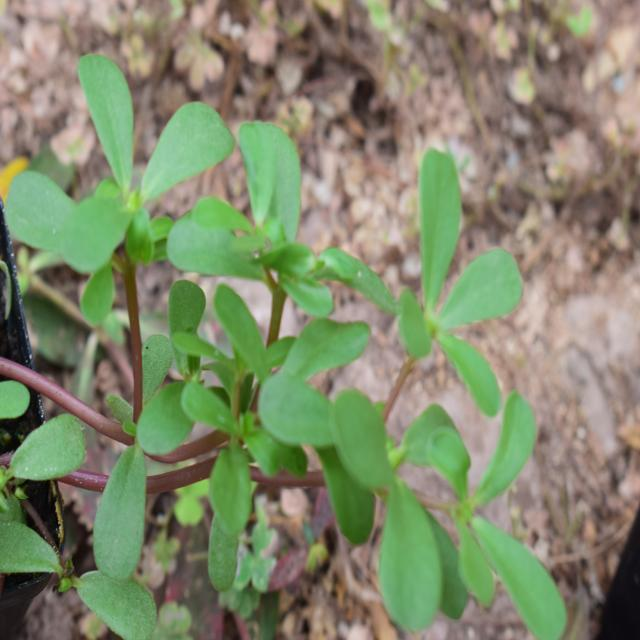purslane: (8, 60, 566, 626)
